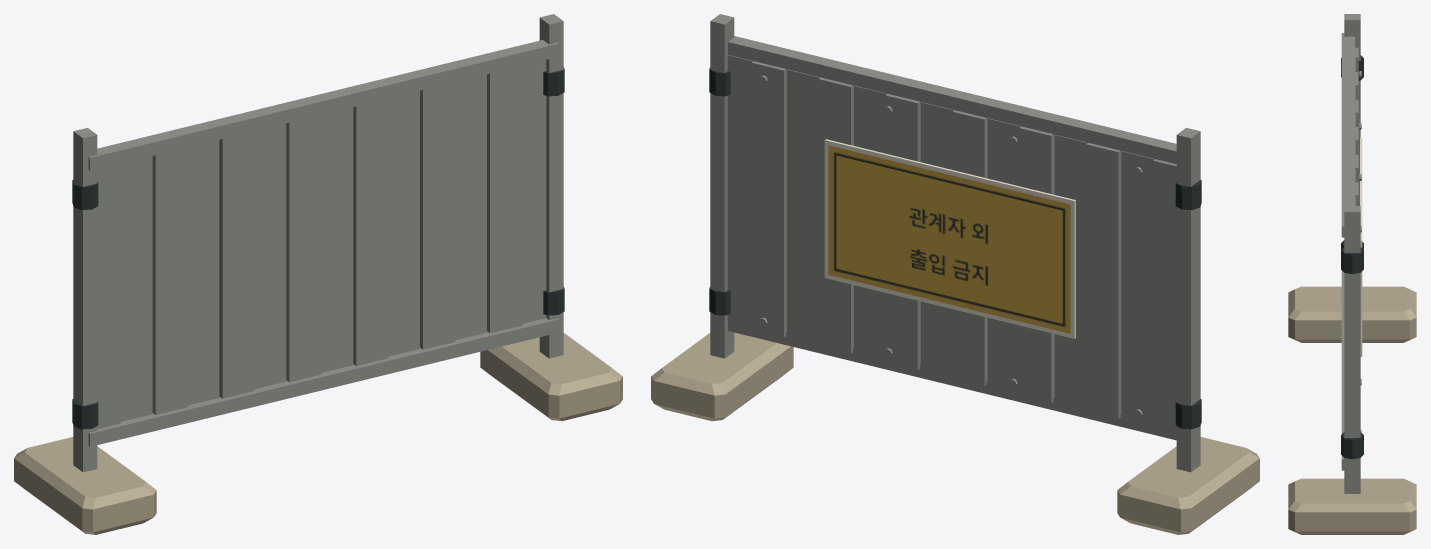
The model's file is D03_Temporary_Fence.fbx.
3 renders of one model, left to right at view 1: azimuth 30°, elevation 25°; view 2: azimuth 150°, elevation 25°; view 3: azimuth 270°, elevation 25°, orthographic. The views are drawn at different scales.
Parts seen in each view (by area): view 1: Corrugated_Panel, Fence_Frame, Fence_Feet; view 2: Corrugated_Panel, Front_Access_Warning, Fence_Frame, Fence_Feet; view 3: Fence_Feet, Fence_Frame, Corrugated_Panel, Front_Access_Warning.
Part boxes in pixels (x1,y1,x2,y2): Corrugated_Panel: (97,60,546,429); Fence_Frame: (73,14,563,472); Fence_Feet: (14,67,622,534); Corrugated_Panel: (727,55,1176,433); Front_Access_Warning: (824,139,1075,338); Fence_Frame: (710,14,1200,472); Fence_Feet: (651,67,1259,534); Fence_Feet: (1288,55,1416,534); Fence_Frame: (1341,14,1360,493); Corrugated_Panel: (1355,47,1358,205); Front_Access_Warning: (1360,137,1362,356).
Size of the model in its own units: 3.2 by 2.1 by 0.78.
Materials: 5 (1 with a texture image).
